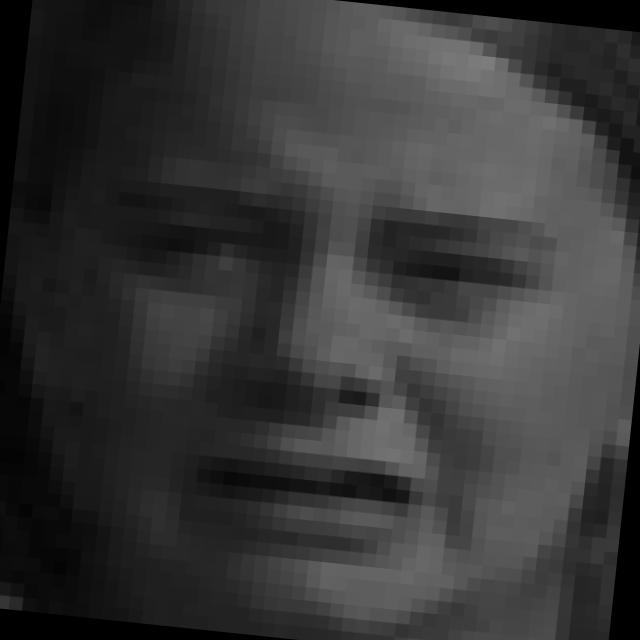sad: (68, 135, 557, 592)
